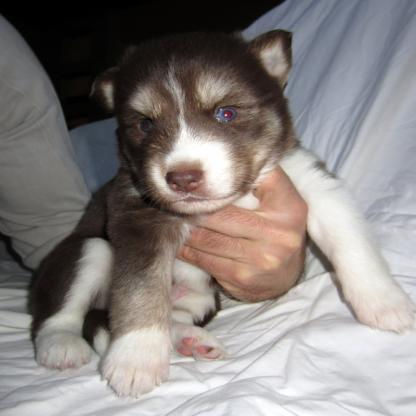dog: (36, 25, 412, 390)
